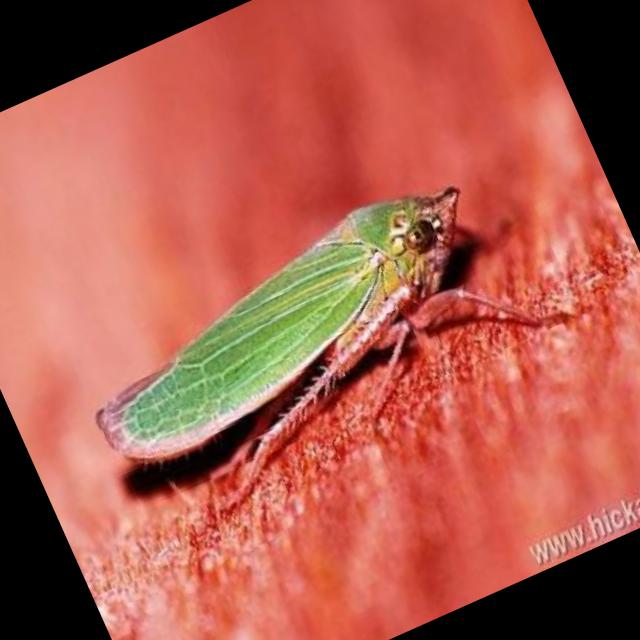green-leafhopper: (52, 155, 536, 493)
